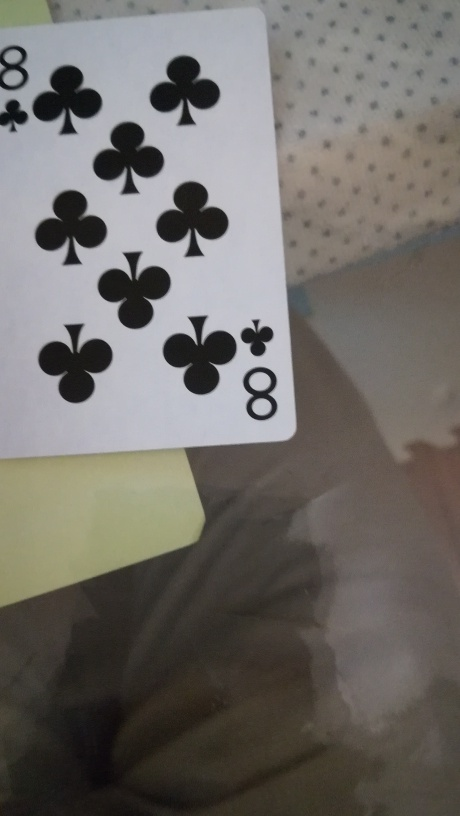mh 8: (0, 5, 297, 456)
